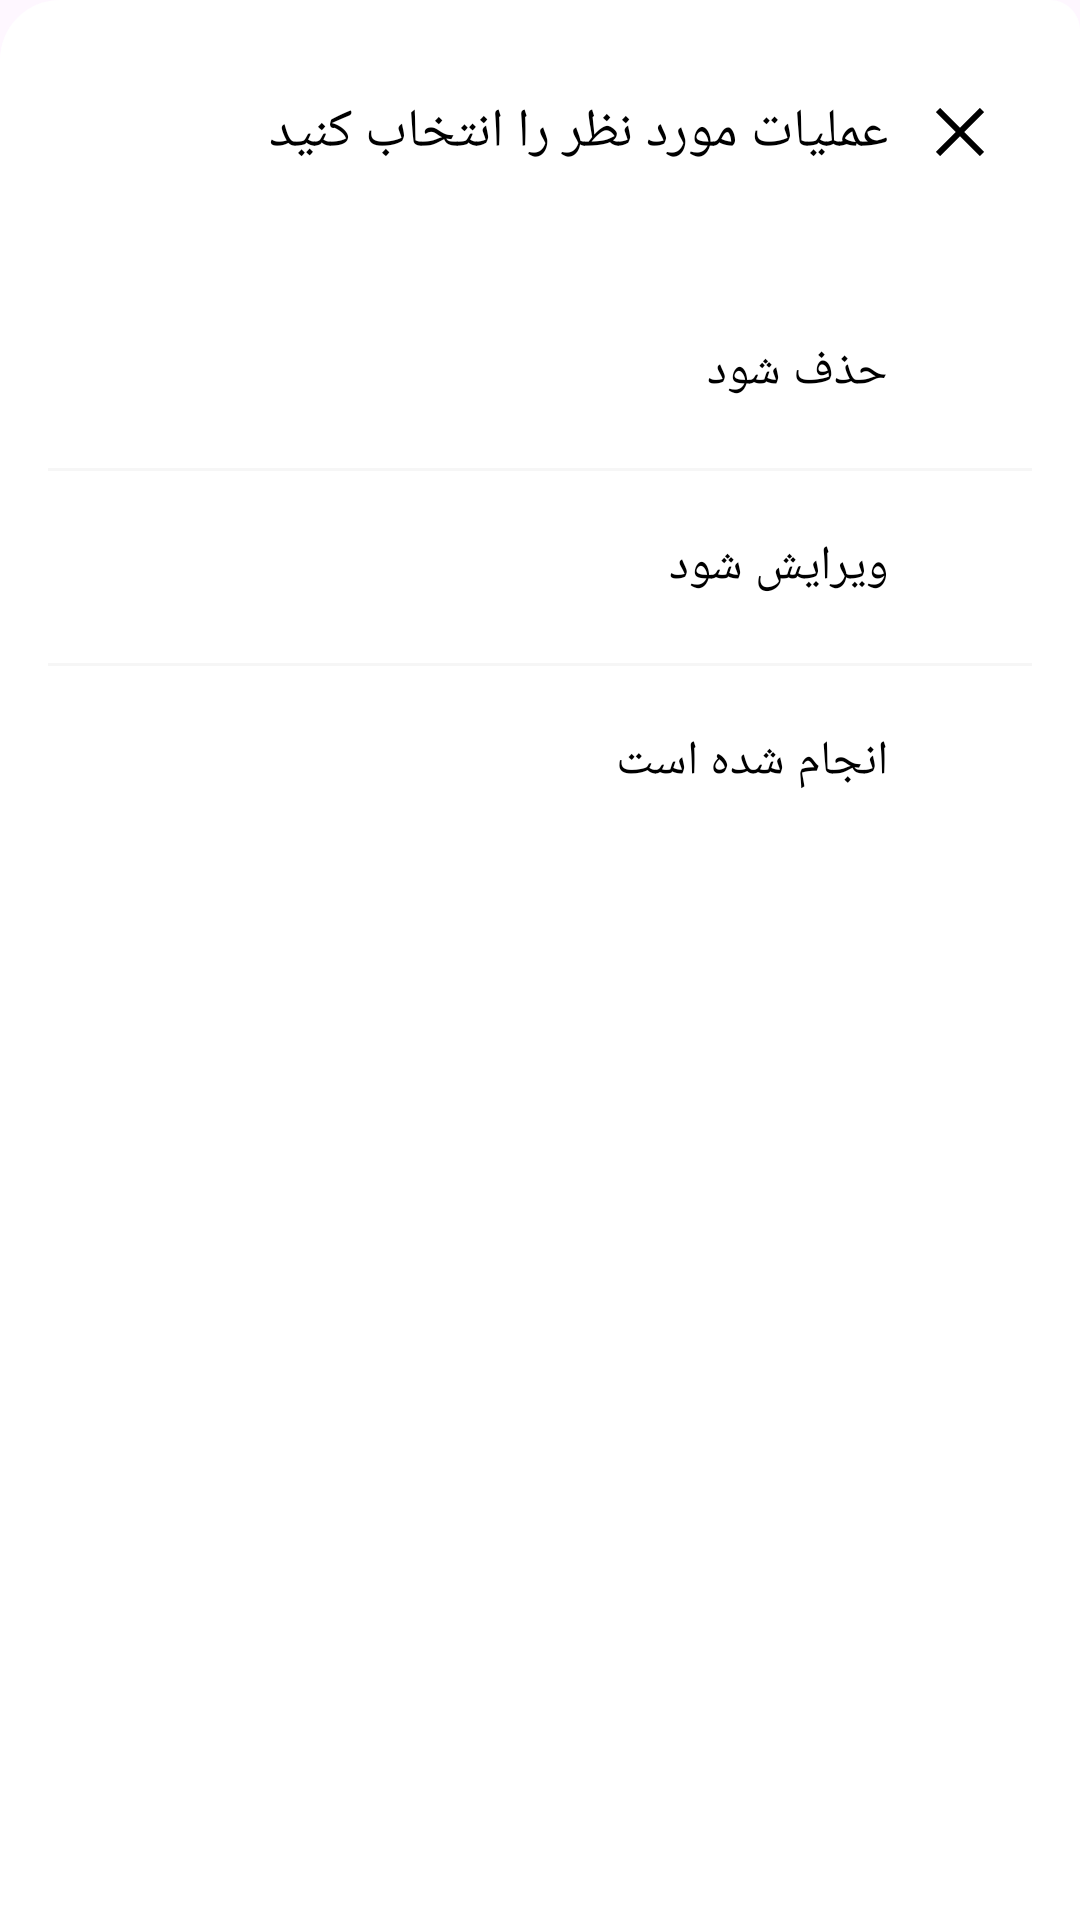

Point at icon controls on the screen. Image size 1080×1920, points as (x,y).
close: (960,132)
